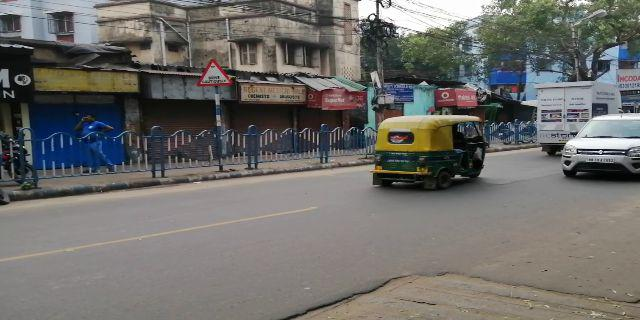Autorickshaw: (374, 109, 489, 187)
Car: (564, 116, 636, 175)
